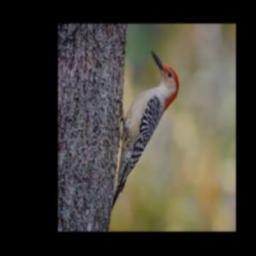Woodpecker: (111, 50, 179, 210)
